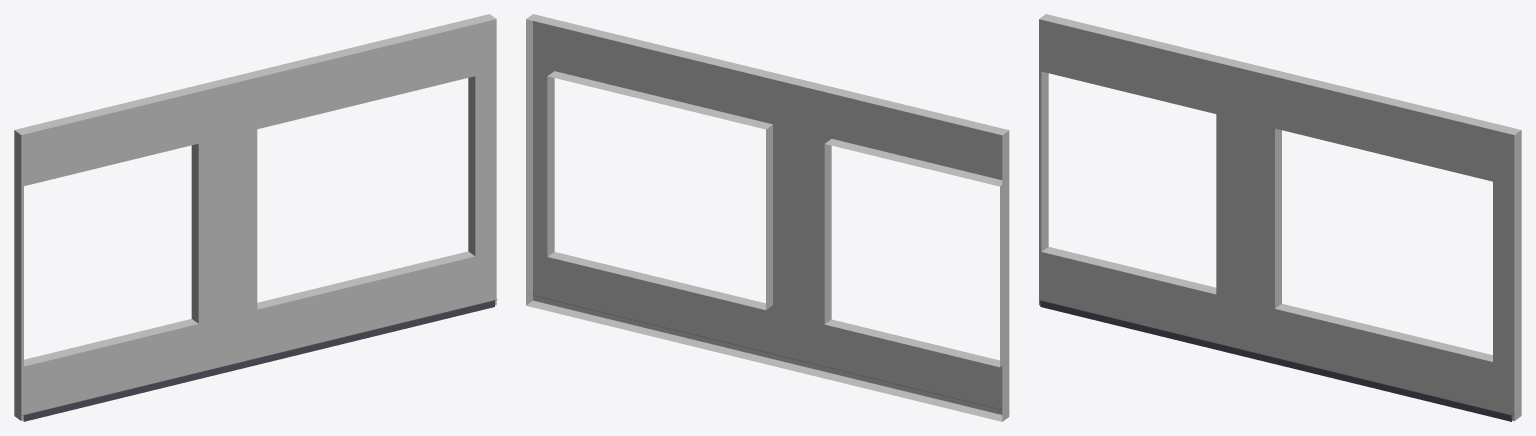
File: ConcreteWall002.FBX
3 views of the same model, side by side, from view 1: azimuth 30°, elevation 25°; view 2: azimuth 150°, elevation 25°; view 3: azimuth 330°, elevation 25° (orthographic).
Parts seen in each view (by area): view 1: ConcreteWall002; view 2: ConcreteWall002; view 3: ConcreteWall002.
Part boxes in pixels (box(x1,y1,x2,y2)): ConcreteWall002: box(14, 14, 497, 421); ConcreteWall002: box(526, 14, 1009, 421); ConcreteWall002: box(1039, 14, 1521, 421).
Bounding box in the file's own units: 23.66 × 13.61 × 0.6522.
